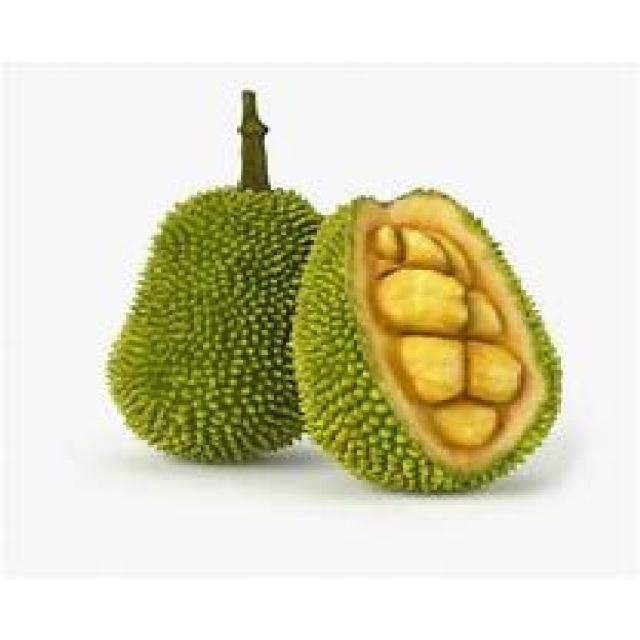Fruit: (265, 160, 606, 515), (89, 165, 431, 495)
